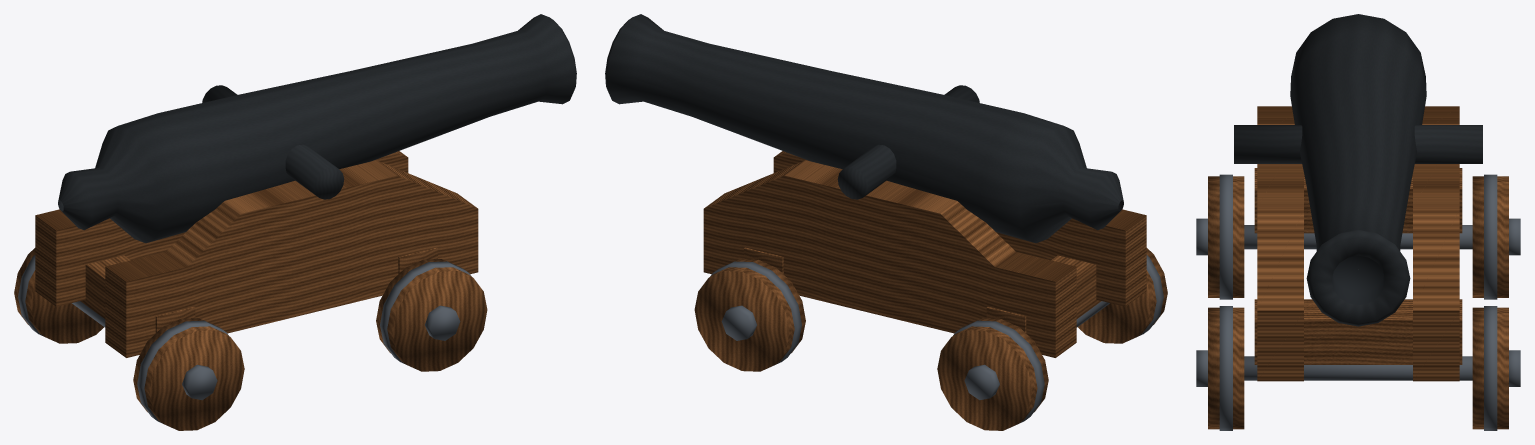
The model's file is light-cannon-lod2.glb.
The picture shows the model from 3 angles, left to right: view 1: azimuth 30°, elevation 25°; view 2: azimuth 150°, elevation 25°; view 3: azimuth 270°, elevation 25°; orthographic projection. The views are drawn at different scales.
Visible parts, largest first — view 1: Barrel.002, Cheek_port.002, Wheel_-0.71_-1.002, Wheel_0.49_-1.002, Cheek_starboard.002, Wheel_-0.71_1.002, Trunnions.002, Crossbeam_-0.002, Rim_0.49_-1.002, Rim_-0.71_-1.002, Hub_0.49_-1.002, Hub_-0.71_-1.002 (+1 smaller); view 2: Barrel.002, Cheek_starboard.002, Wheel_-0.71_1.002, Wheel_0.49_1.002, Cheek_port.002, Wheel_-0.71_-1.002, Trunnions.002, Crossbeam_-0.002, Rim_0.49_1.002, Rim_-0.71_1.002, Hub_0.49_1.002, Hub_-0.71_1.002 (+1 smaller); view 3: Barrel.002, Cheek_port.002, Cheek_starboard.002, Crossbeam_0.002, Trunnions.002, Wheel_0.49_1.002, Wheel_0.49_-1.002, Wheel_-0.71_1.002, Wheel_-0.71_-1.002, Axle_0.002, Rim_-0.71_1.002, Rim_-0.71_-1.002 (+8 smaller).
Boxes of the visible parts, left/top/right/bottom form: Barrel.002: left=58, top=14, right=576, bottom=243; Cheek_port.002: left=105, top=160, right=478, bottom=357; Wheel_-0.71_-1.002: left=133, top=318, right=244, bottom=430; Wheel_0.49_-1.002: left=376, top=259, right=487, bottom=371; Cheek_starboard.002: left=35, top=151, right=408, bottom=306; Wheel_-0.71_1.002: left=14, top=248, right=103, bottom=343; Trunnions.002: left=202, top=85, right=344, bottom=199; Crossbeam_-0.002: left=80, top=255, right=195, bottom=332; Rim_0.49_-1.002: left=380, top=261, right=471, bottom=365; Rim_-0.71_-1.002: left=137, top=320, right=228, bottom=427; Hub_0.49_-1.002: left=425, top=305, right=460, bottom=340; Hub_-0.71_-1.002: left=182, top=364, right=217, bottom=400; Barrel.002: left=605, top=14, right=1123, bottom=243; Cheek_starboard.002: left=703, top=160, right=1076, bottom=357; Wheel_-0.71_1.002: left=937, top=318, right=1048, bottom=430; Wheel_0.49_1.002: left=694, top=259, right=805, bottom=371; Cheek_port.002: left=773, top=151, right=1146, bottom=306; Wheel_-0.71_-1.002: left=1078, top=248, right=1167, bottom=343; Trunnions.002: left=837, top=85, right=979, bottom=199; Crossbeam_-0.002: left=986, top=255, right=1101, bottom=332; Rim_0.49_1.002: left=710, top=261, right=801, bottom=365; Rim_-0.71_1.002: left=953, top=320, right=1044, bottom=427; Hub_0.49_1.002: left=721, top=305, right=756, bottom=340; Hub_-0.71_1.002: left=964, top=364, right=999, bottom=400; Barrel.002: left=1290, top=14, right=1426, bottom=326; Cheek_port.002: left=1257, top=106, right=1303, bottom=381; Cheek_starboard.002: left=1413, top=106, right=1459, bottom=381; Crossbeam_0.002: left=1254, top=299, right=1462, bottom=364; Trunnions.002: left=1234, top=125, right=1482, bottom=163; Wheel_0.49_1.002: left=1472, top=307, right=1508, bottom=429; Wheel_0.49_-1.002: left=1208, top=307, right=1244, bottom=429; Wheel_-0.71_1.002: left=1472, top=176, right=1508, bottom=297; Wheel_-0.71_-1.002: left=1208, top=176, right=1244, bottom=297; Axle_0.002: left=1244, top=356, right=1472, bottom=380; Rim_-0.71_1.002: left=1484, top=174, right=1497, bottom=299; Rim_-0.71_-1.002: left=1219, top=174, right=1232, bottom=299.
Bounding box in the file's own units: 2.46 × 1.24 × 1.25.
Materials: 4 (2 with a texture image).
